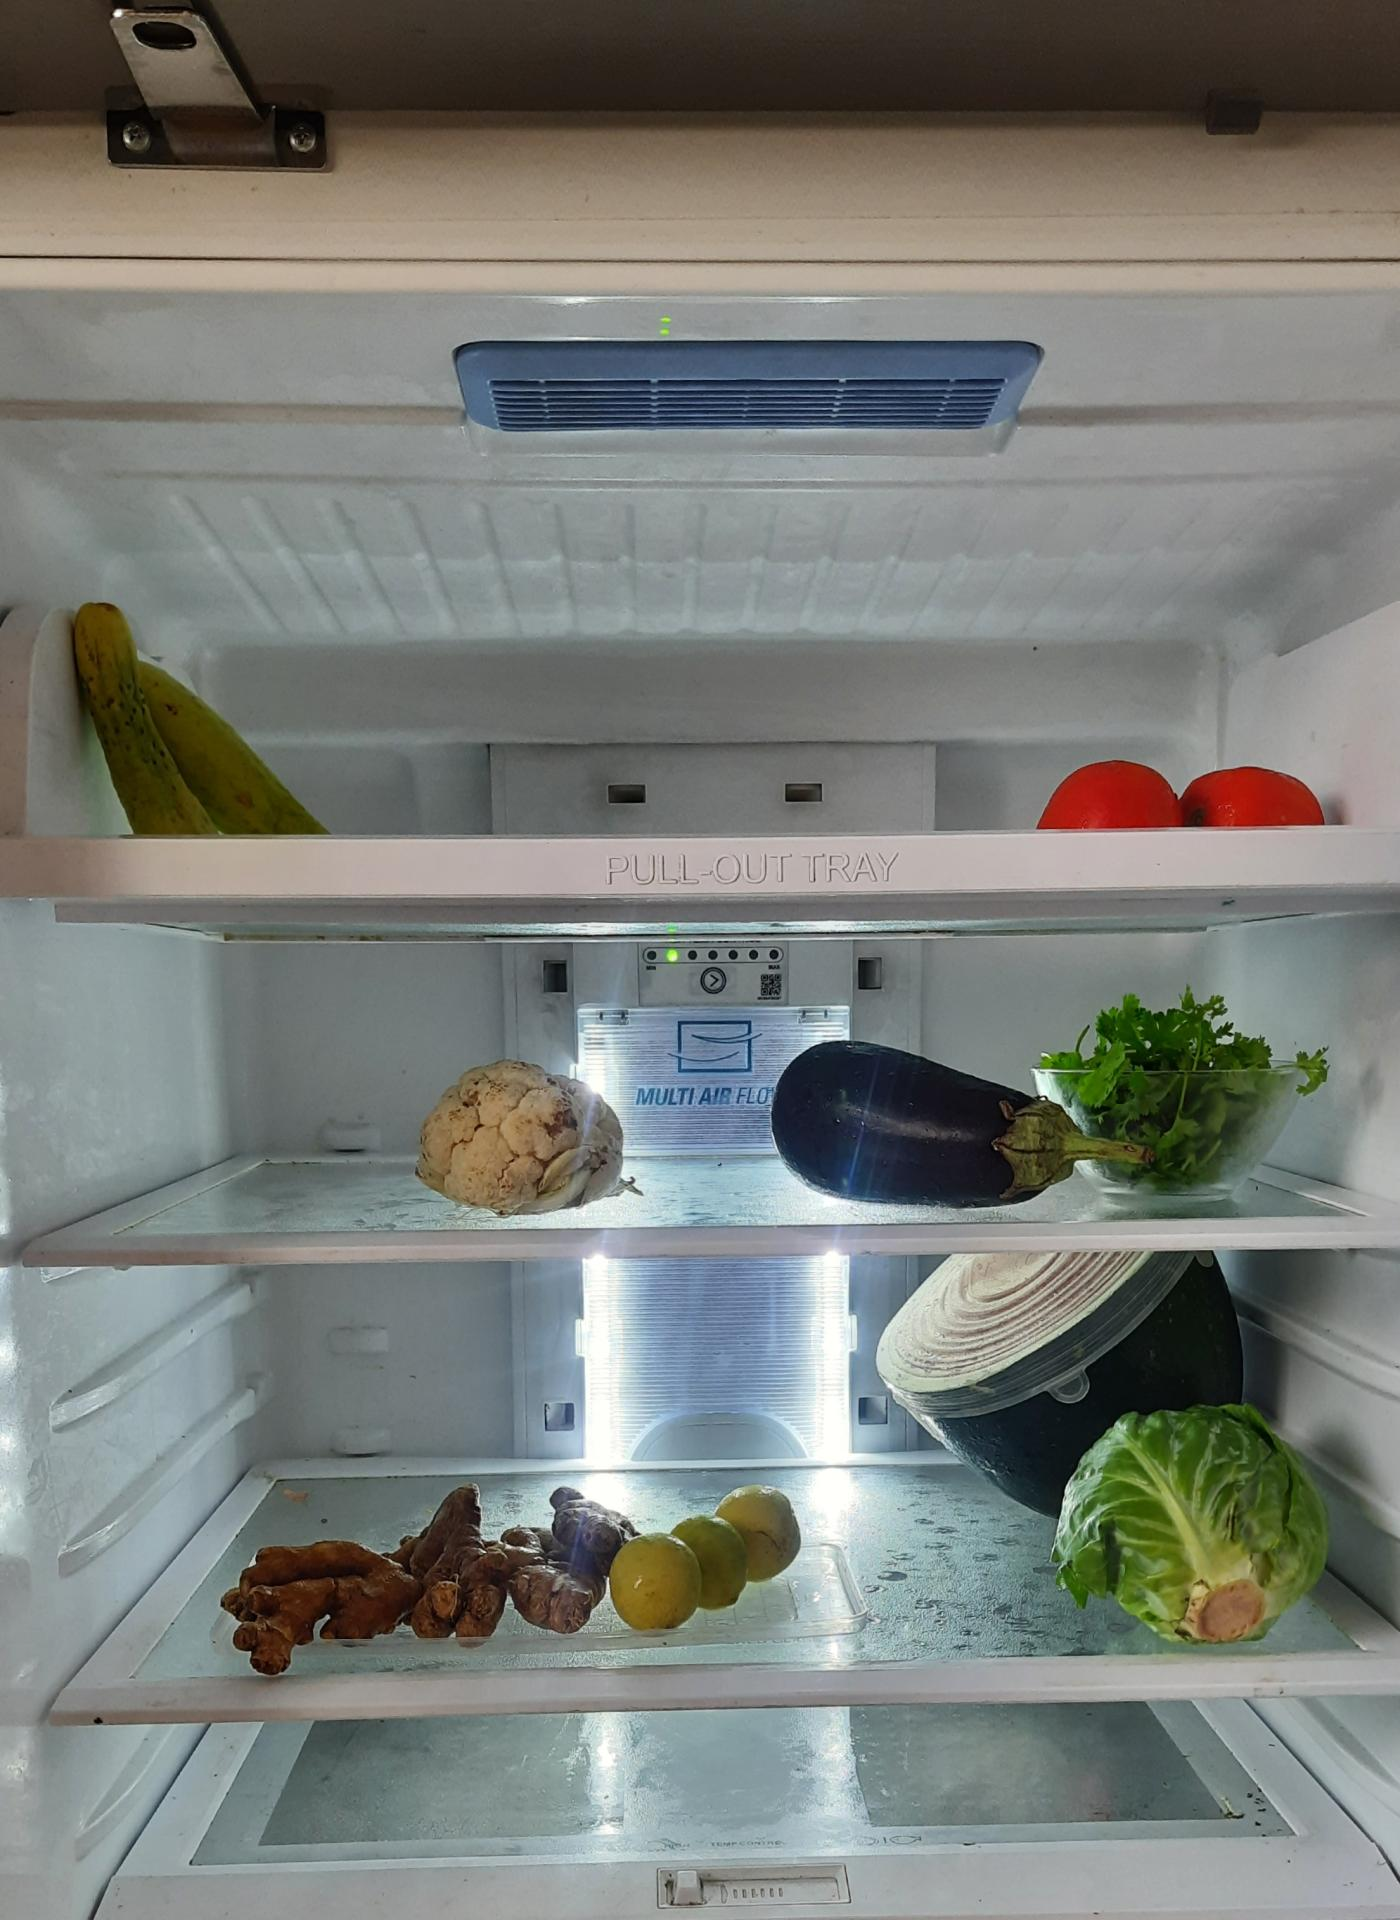brinjal: (765, 1042, 1099, 1203)
cabbage: (1054, 1397, 1328, 1641)
cauliflower: (410, 1058, 637, 1218)
coriander: (1048, 987, 1309, 1173)
cucumber: (70, 584, 343, 833)
ginger: (236, 1477, 634, 1665)
lemon: (635, 1482, 848, 1625)
tomato: (1041, 753, 1331, 836)
watermelon: (884, 1245, 1254, 1518)
